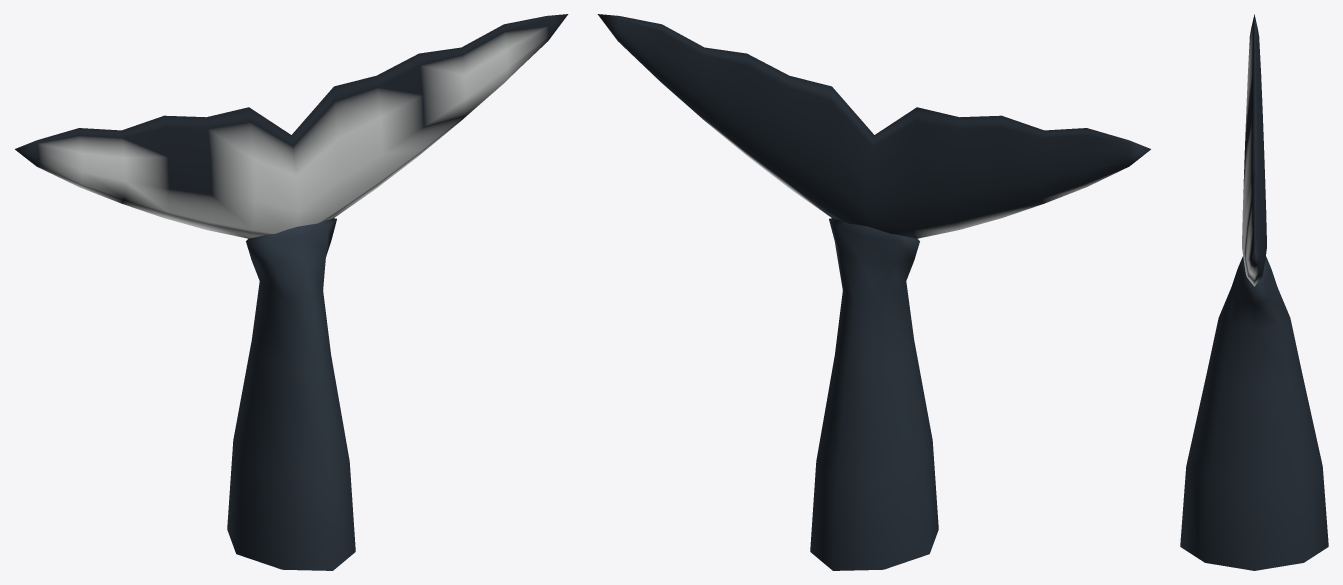
Rendered from sea_whale_tail.glb.
The picture shows the model from 3 angles, left to right: view 1: azimuth 30°, elevation 25°; view 2: azimuth 150°, elevation 25°; view 3: azimuth 270°, elevation 25°; orthographic projection. The views are drawn at different scales.
Visible parts, largest first — view 1: sea_whale_tail_main; view 2: sea_whale_tail_main; view 3: sea_whale_tail_main.
Boxes of the visible parts, box(x1,y1,x2,y2) form: sea_whale_tail_main: box(15, 14, 568, 570); sea_whale_tail_main: box(597, 14, 1150, 570); sea_whale_tail_main: box(1180, 14, 1328, 570).
Size of the model in its own units: 1.68 by 1.39 by 0.4353.
